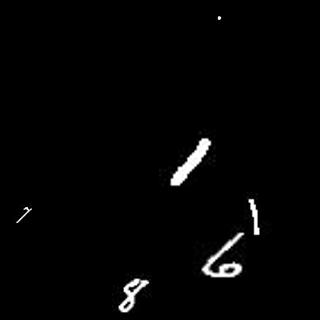dot: (214, 12, 223, 21)
eight: (114, 279, 154, 315)
one: (171, 133, 211, 188), (249, 195, 259, 236)
seven: (17, 205, 34, 224)
six: (197, 231, 249, 279)
